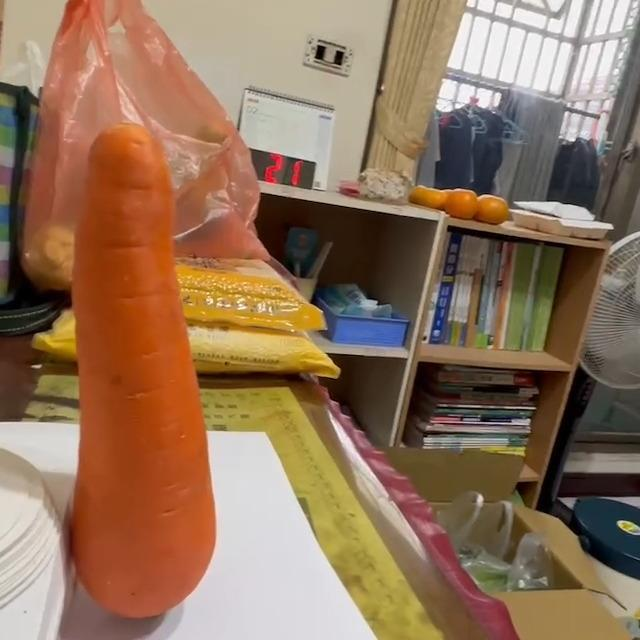carrot: (70, 121, 220, 620)
